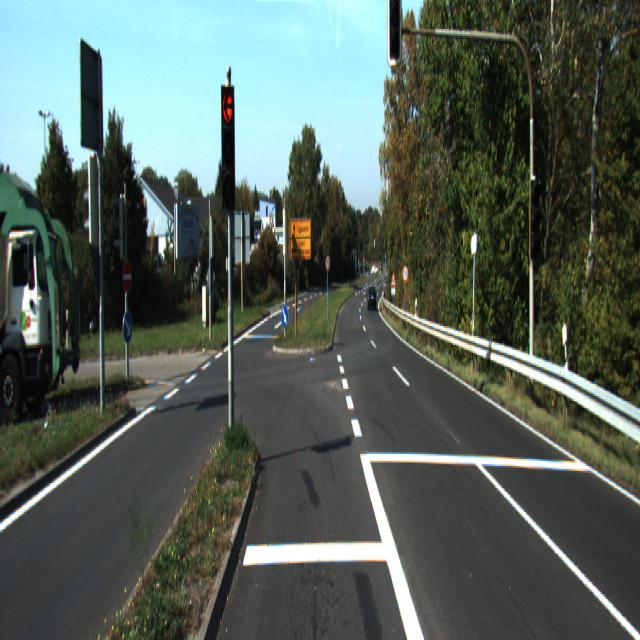Car: (0, 166, 85, 418), (368, 286, 377, 310)
